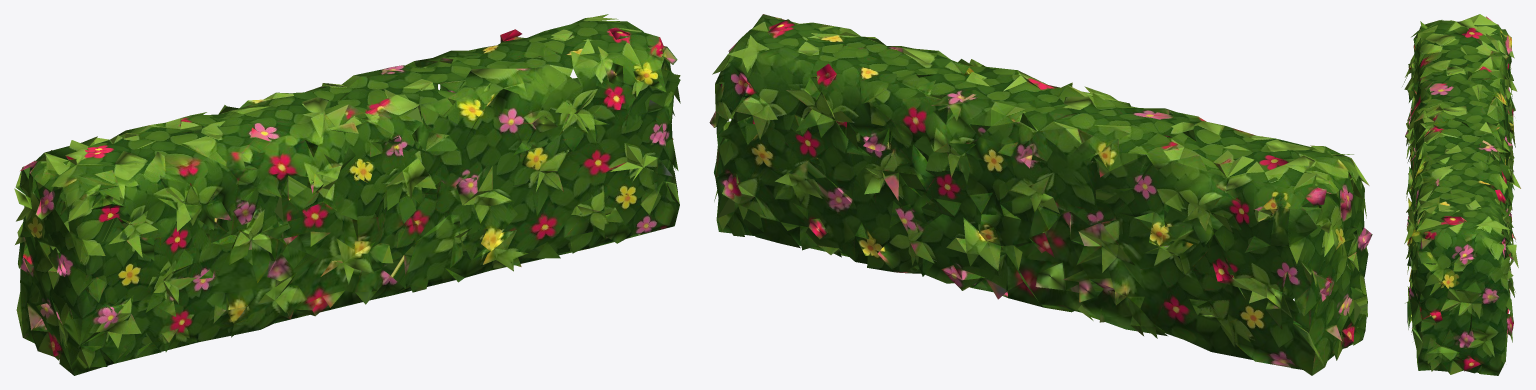
Rendered from court-hedge.glb.
3 views of the same model, side by side, from view 1: azimuth 30°, elevation 25°; view 2: azimuth 150°, elevation 25°; view 3: azimuth 270°, elevation 25° (orthographic). The views are drawn at different scales.
Size of the model in its own units: 2 by 0.6008 by 0.4441.
Materials: 1 (1 with a texture image).
